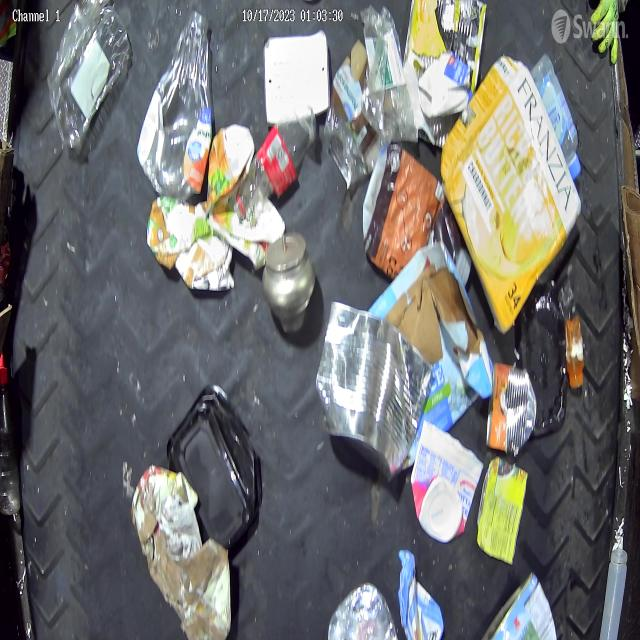can: (316, 296, 434, 480), (488, 364, 538, 455)
plastic_bottle: (140, 8, 212, 197), (46, 0, 131, 153), (238, 114, 322, 217), (363, 9, 412, 145), (529, 53, 581, 180)
